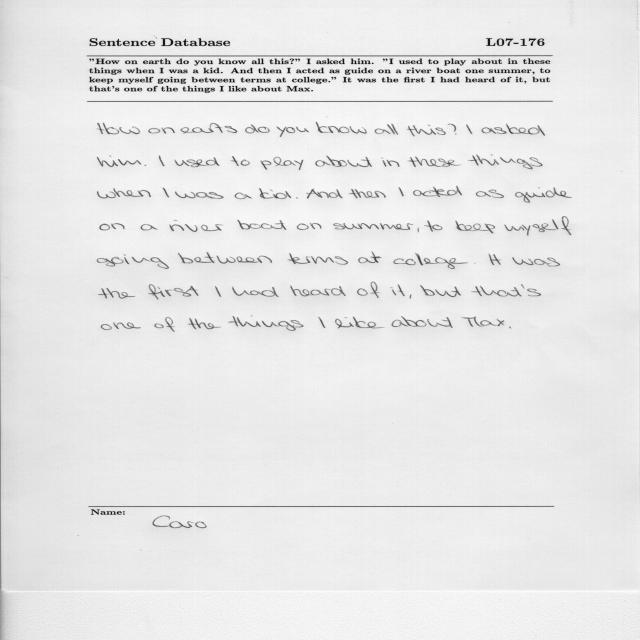word: (504, 217, 571, 236), (393, 253, 468, 269), (228, 316, 304, 331), (178, 252, 272, 264), (97, 254, 169, 269), (468, 155, 543, 169), (515, 187, 572, 203), (333, 223, 419, 233), (482, 123, 546, 136), (148, 285, 198, 300), (287, 253, 348, 265), (392, 316, 453, 328), (169, 220, 223, 232), (315, 156, 372, 167), (290, 286, 346, 297), (316, 122, 367, 134), (408, 156, 461, 167), (181, 123, 238, 133), (471, 286, 522, 297), (261, 157, 304, 170), (335, 317, 385, 328), (97, 188, 151, 198), (413, 186, 462, 197), (98, 155, 142, 167), (455, 221, 495, 234), (420, 285, 461, 297), (237, 220, 286, 230), (512, 257, 560, 267), (462, 316, 505, 327), (232, 287, 279, 297), (175, 157, 220, 167), (407, 125, 446, 136), (103, 123, 140, 134), (99, 288, 136, 299), (175, 191, 224, 199), (188, 318, 222, 329), (306, 189, 343, 199), (357, 282, 380, 298), (277, 126, 310, 137), (259, 188, 291, 199), (349, 189, 386, 198), (101, 322, 141, 330), (154, 317, 175, 332), (375, 124, 399, 135), (358, 252, 382, 263), (521, 285, 541, 297), (245, 125, 270, 134), (476, 190, 504, 198), (230, 156, 250, 166), (381, 157, 400, 167), (100, 224, 125, 231), (297, 223, 322, 230), (148, 128, 175, 134), (488, 254, 501, 265), (392, 285, 405, 296), (140, 224, 158, 230), (235, 193, 252, 199), (424, 221, 433, 232), (97, 123, 104, 134), (319, 317, 326, 328), (448, 123, 456, 132), (159, 156, 165, 167), (215, 286, 221, 297), (467, 124, 473, 134), (163, 188, 169, 198), (432, 225, 442, 230), (399, 187, 404, 196), (509, 327, 512, 329), (410, 294, 411, 299), (145, 164, 147, 166), (296, 198, 298, 199), (455, 134, 456, 135), (474, 263, 476, 263)
